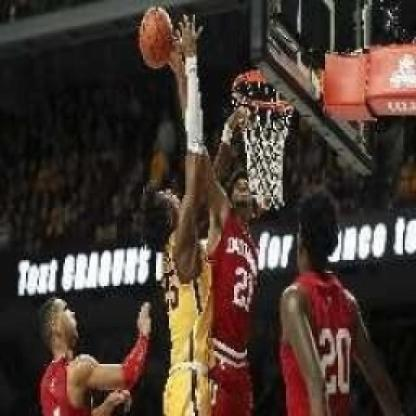basketball: (138, 3, 176, 75)
